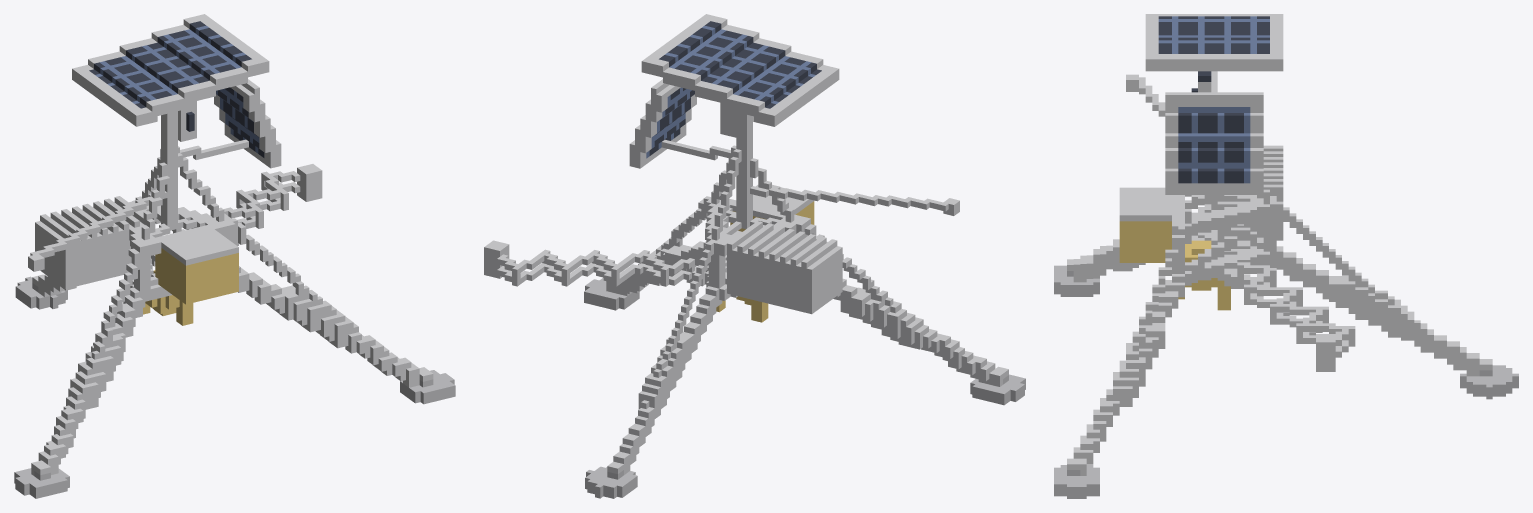
Rendered from Surveyor 3.glb.
The picture shows the model from 3 angles, left to right: view 1: azimuth 30°, elevation 25°; view 2: azimuth 150°, elevation 25°; view 3: azimuth 270°, elevation 25°; orthographic projection. The views are drawn at different scales.
Visible parts, largest first — view 1: Surveyor3_Voxel.001; view 2: Surveyor3_Voxel.001; view 3: Surveyor3_Voxel.001.
Part boxes in pixels (box(x1,y1,x2,y2)): Surveyor3_Voxel.001: box(14, 14, 455, 498); Surveyor3_Voxel.001: box(484, 14, 1025, 498); Surveyor3_Voxel.001: box(1054, 14, 1518, 498).
Size of the model in its own units: 4.05 by 3.05 by 3.55.
